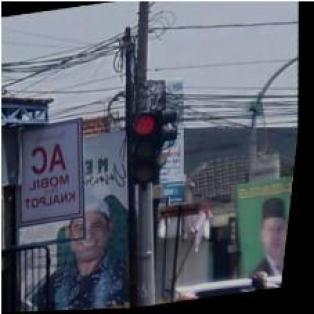Semaforo Rojo: (126, 111, 169, 185)
